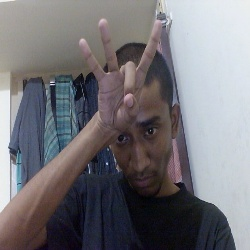hand: (62, 14, 170, 131)
